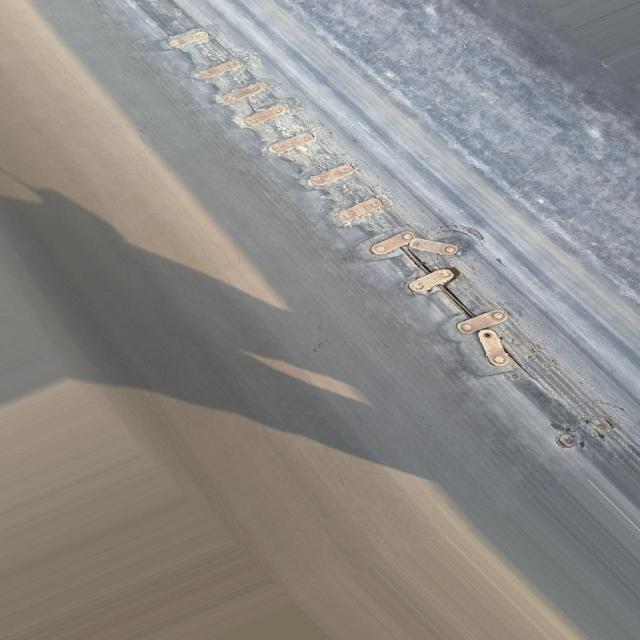patch work: (114, 2, 640, 467)
